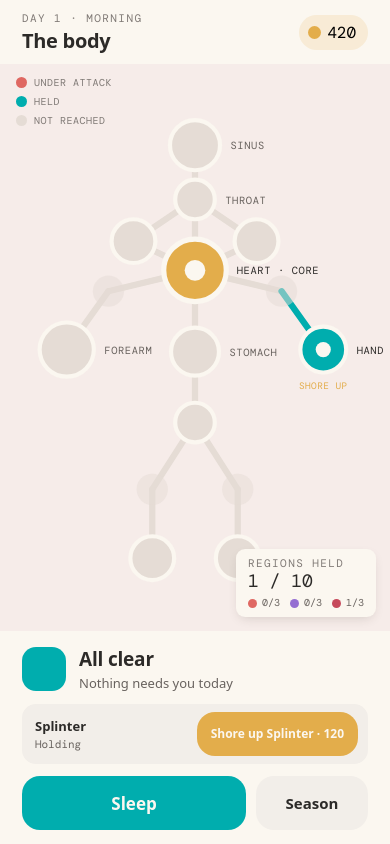
Scenario: MapPage › shoring up a wall › spends the bank, reinforces the wall and moves the day when the control is activated
What coordinates should you click on to do the following:
click the button "Shore up Splinter · 120"
I would click on:
 (277, 734)
Its box is [197,712,358,756].
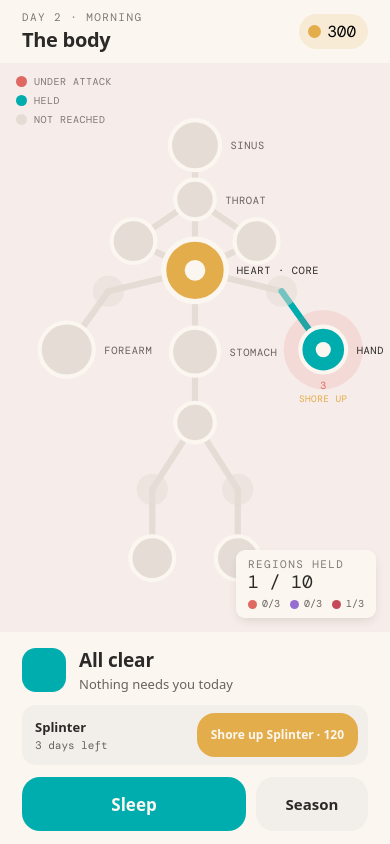
expect the text with test id "bank" reads "300": met, box [327,21,356,42]
